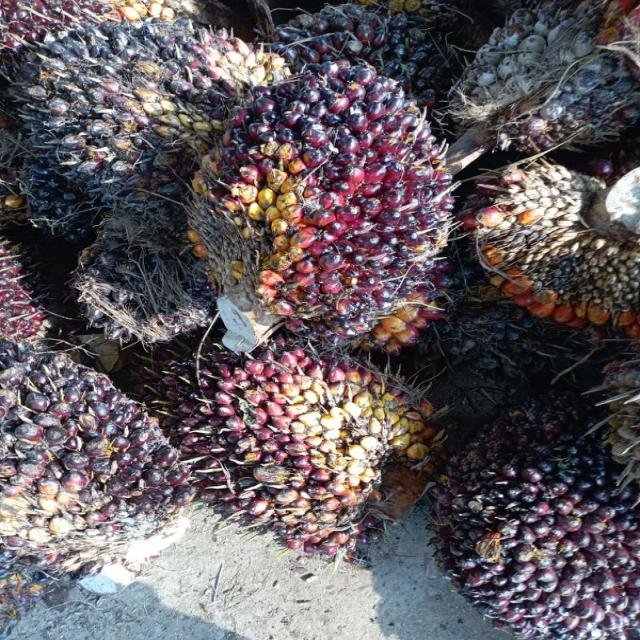fraksi 1: (154, 45, 495, 360)
